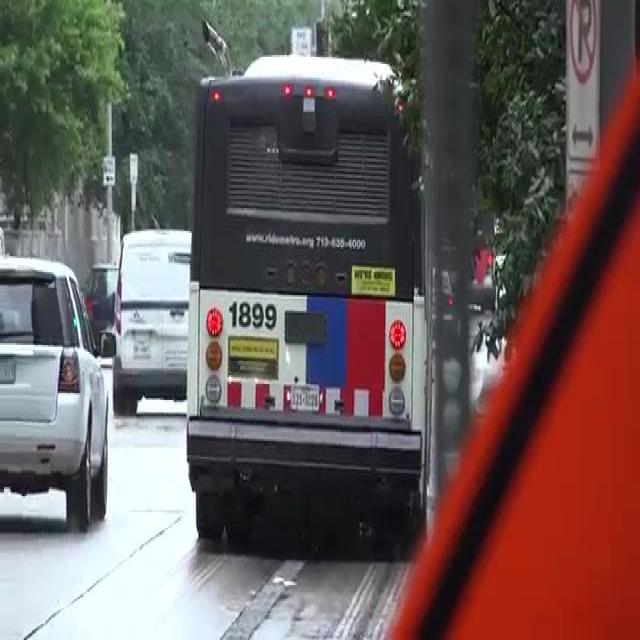motorcycle: (174, 51, 432, 553)
